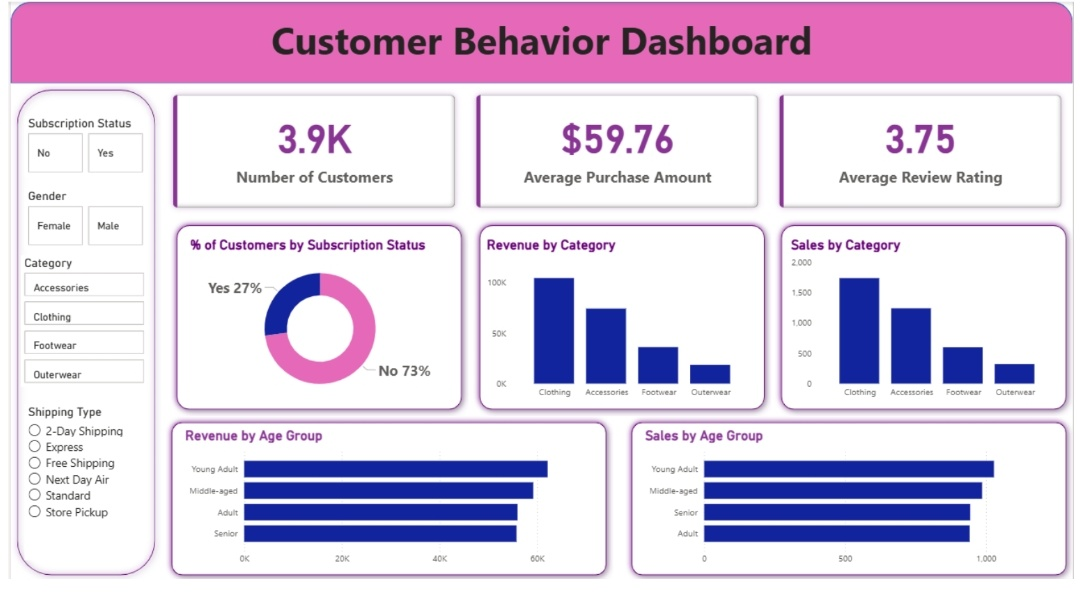

What the dashboard file says about the page in this screenshot:
{"tool":"powerbi","page":{"name":"Page 1","canvas":[1500,820],"ordinal":0},"visuals":[{"type":"cardVisual","fields":{"Data":["public customer.Number of Customers","public customer.Average Purchase Amount","public customer.Average Review Rating"]},"box":[212.9,115.3,1286.5,191.6],"z":2000},{"type":"shape","box":[218.3,585.6,631.7,234.2],"z":2500,"group":"g1"},{"type":"shape","box":[0,0,1499.4,115.3],"z":3000},{"type":"textbox","box":[0,12.4,1499.4,102.9],"z":4000},{"type":"shape","box":[225.4,307,420.5,278.6],"z":5000},{"type":"donutChart","title":"% of Customers by Subscription Status","fields":{"Category":["public customer.subscription_status"],"Y":["CountNonNull(public customer.customer_id)"]},"box":[248.4,331.8,376.2,237.8],"z":6000},{"type":"shape","box":[1078.9,307,420.5,278.6],"z":7000},{"type":"shape","box":[652.1,307,420.5,278.6],"z":8000},{"type":"clusteredColumnChart","title":"Revenue by Category","fields":{"Y":["Sum(public customer.purchase_amount)"],"Category":["public customer.category"]},"box":[667.2,331.8,385.1,237.8],"z":9000},{"type":"clusteredColumnChart","title":"Sales by Category","fields":{"Y":["CountNonNull(public customer.customer_id)"],"Category":["public customer.category"]},"box":[1096.6,331.8,385.1,237.8],"z":10000},{"type":"shape","box":[0,115.3,212.9,704.5],"z":11000},{"type":"advancedSlicerVisual","fields":{"Values":["public customer.subscription_status"]},"box":[19.5,161.5,173.9,85.2],"z":12000},{"type":"advancedSlicerVisual","fields":{"Values":["public customer.gender"]},"box":[19.5,264.4,173.9,85.2],"z":13000},{"type":"advancedSlicerVisual","fields":{"Values":["public customer.category"]},"box":[14.2,358.4,179.2,186.3],"z":14000},{"type":"listSlicer","fields":{"Values":["public customer.shipping_type"]},"box":[19.5,569.6,168.6,220],"z":15000},{"type":"shape","box":[867.7,585.6,631.7,234.2],"z":16000},{"type":"clusteredBarChart","title":"Sales by Age Group","fields":{"Y":["CountNonNull(public customer.customer_id)"],"Category":["public customer.age_group"]},"box":[890.8,601.5,585.6,204.1],"z":17000},{"type":"clusteredBarChart","title":"Revenue by Age Group","fields":{"Y":["Sum(public customer.purchase_amount)"],"Category":["public customer.age_group"]},"box":[241.4,601.6,585.6,204.1],"z":17500,"group":"g1"},{"type":"group","id":"g1","title":"Group 1","box":[218.3,585.6,631.7,234.2],"z":17501}]}

Visuals, with their boxes in screenshot pixels (x1, y1, x2, y2), scaled from the page's 1500x820 canvas onto the 1080x592 screenshot:
cardVisual - public customer.Number of Customers x public customer.Average Purchase Amount: 153,83,1079,222
shape: 157,423,612,591
shape: 0,0,1079,83
textbox: 0,9,1079,83
shape: 162,222,465,423
"% of Customers by Subscription Status" donutChart: 179,240,450,411
shape: 777,222,1079,423
shape: 470,222,772,423
"Revenue by Category" clusteredColumnChart: 480,240,758,411
"Sales by Category" clusteredColumnChart: 790,240,1067,411
shape: 0,83,153,591
advancedSlicerVisual - public customer.subscription_status: 14,117,139,178
advancedSlicerVisual - public customer.gender: 14,191,139,252
advancedSlicerVisual - public customer.category: 10,259,139,393
listSlicer - public customer.shipping_type: 14,411,135,570
shape: 625,423,1079,591
"Sales by Age Group" clusteredBarChart: 641,434,1063,582
"Revenue by Age Group" clusteredBarChart: 174,434,595,582
"Group 1" group: 157,423,612,591
